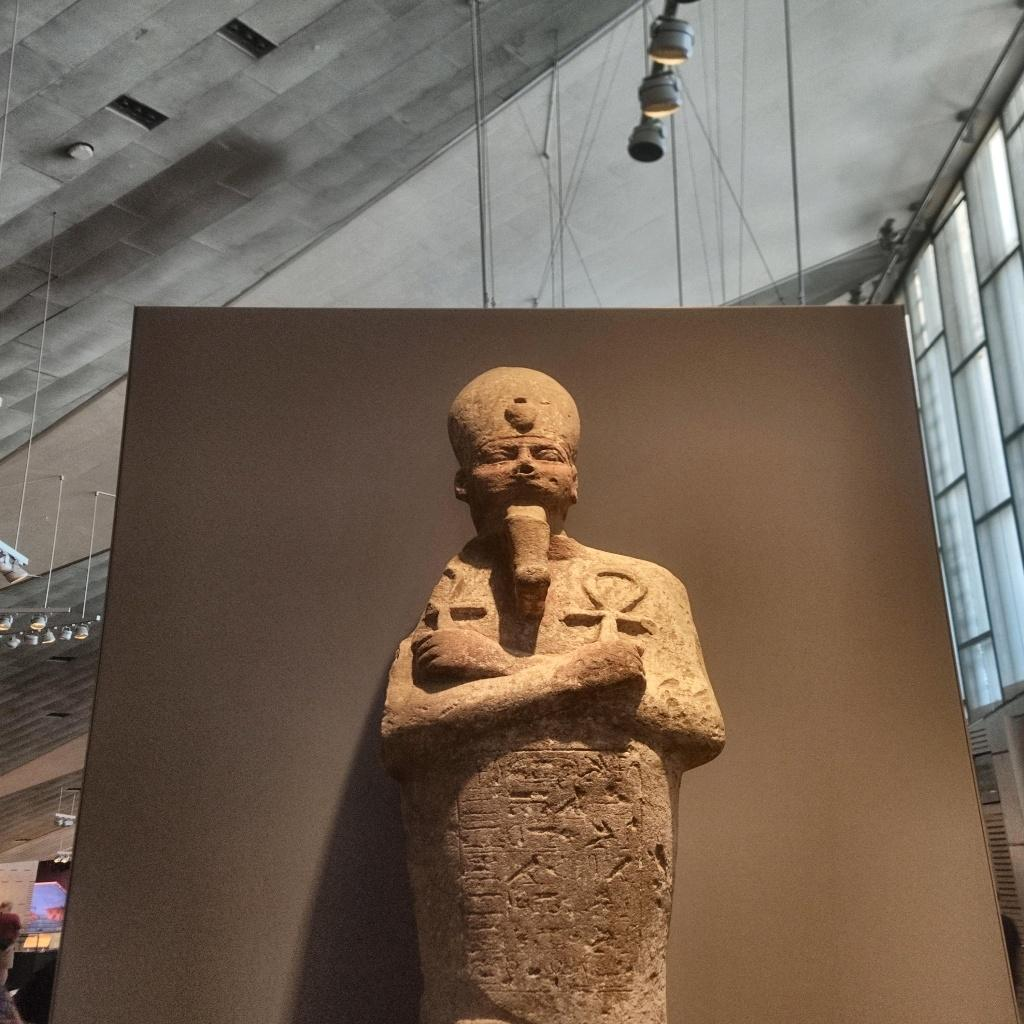Statue of Mentuhotep II: (362, 338, 730, 1024)
